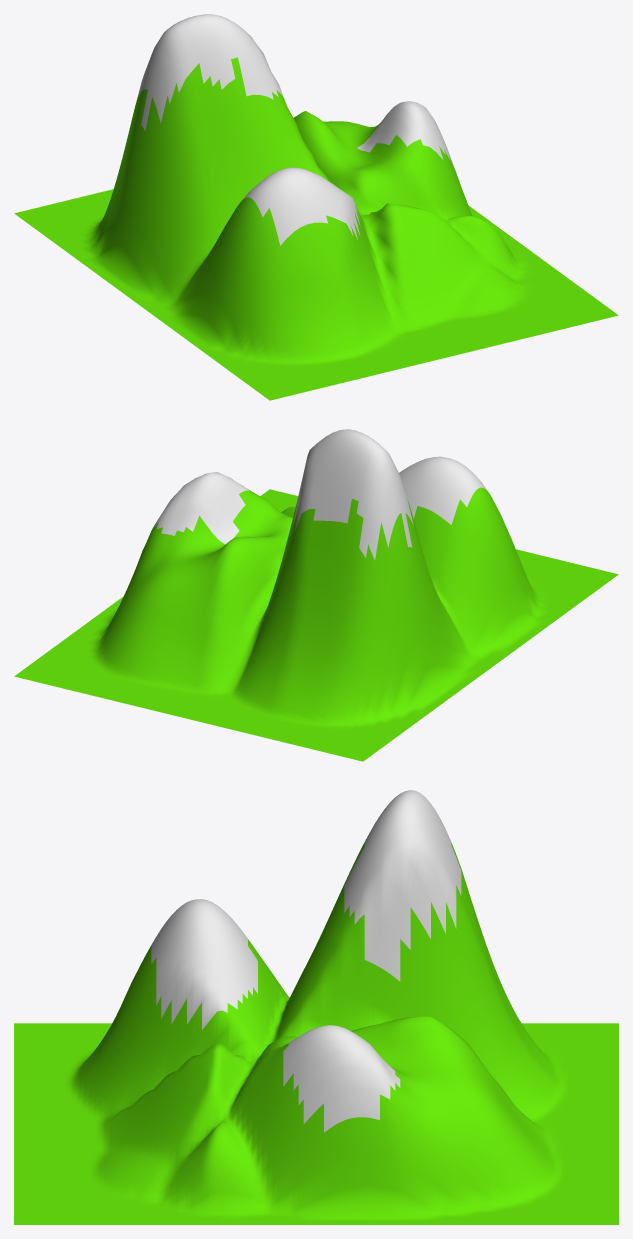
File: mount.fbx
3 views of the same model, one above another, from view 1: azimuth 30°, elevation 25°; view 2: azimuth 150°, elevation 25°; view 3: azimuth 270°, elevation 25° (orthographic). The views are drawn at different scales.
Visible parts, largest first — view 1: Landscape; view 2: Landscape; view 3: Landscape.
Boxes of the visible parts, left/top/right/bottom form: Landscape: left=14, top=14, right=618, bottom=400; Landscape: left=14, top=429, right=618, bottom=761; Landscape: left=14, top=790, right=618, bottom=1224.
Size of the model in its own units: 167 by 109 by 212.
